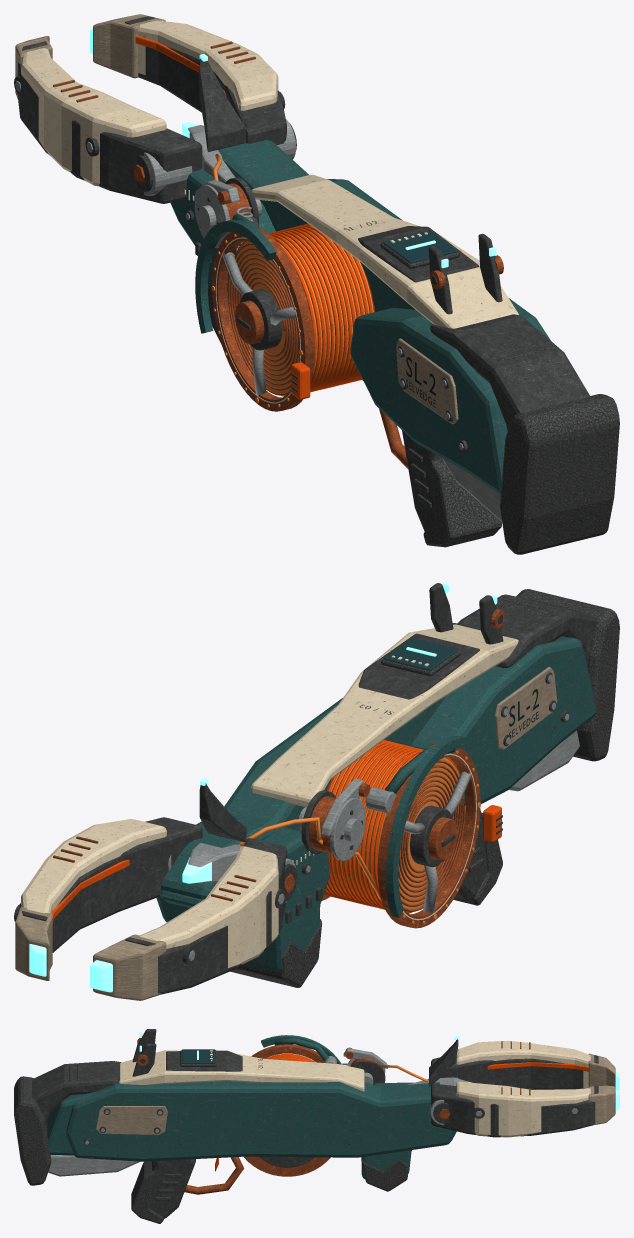
File: selvedge.gltf
3 renders of one model, top to bottom at view 1: azimuth 30°, elevation 25°; view 2: azimuth 150°, elevation 25°; view 3: azimuth 270°, elevation 25°, orthographic. The views are drawn at different scales.
Visible parts, largest first — view 1: body_Vulcanised heel, body_Deep tide powder coat, body_Graphite inserts, body_Ivory alumina, bobbin_Oxidised bronze, bobbin_Saffron enamel, leftTine_Ivory alumina, leftTine_Graphite inserts, bobbin_Enamelled amber filament, rightTine_Ivory alumina, rightTine_Graphite inserts, body_Edge milled alloy (+9 smaller); view 2: body_Deep tide powder coat, body_Graphite inserts, body_Ivory alumina, body_Vulcanised heel, bobbin_Oxidised bronze, leftTine_Ivory alumina, rightTine_Graphite inserts, rightTine_Ivory alumina, bobbin_Saffron enamel, leftTine_Graphite inserts, bobbin_Enamelled amber filament, latch_Deep tide powder coat (+16 smaller); view 3: body_Deep tide powder coat, body_Graphite inserts, body_Vulcanised heel, body_Ivory alumina, rightTine_Ivory alumina, rightTine_Graphite inserts, leftTine_Graphite inserts, leftTine_Ivory alumina, body_Edge milled alloy, body_Satin champagne alloy, bobbin_Oxidised bronze, body_Oxidised bronze (+7 smaller).
Boxes of the visible parts, box(x1,y1,x2,y2) form: body_Vulcanised heel: box(208, 243, 619, 554); body_Deep tide powder coat: box(170, 139, 550, 494); body_Graphite inserts: box(137, 58, 590, 531); body_Ivory alumina: box(251, 174, 518, 328); bobbin_Oxidised bronze: box(212, 228, 363, 411); bobbin_Saffron enamel: box(237, 223, 374, 396); leftTine_Ivory alumina: box(21, 48, 166, 186); leftTine_Graphite inserts: box(14, 41, 202, 203); bobbin_Enamelled amber filament: box(211, 228, 373, 407); rightTine_Ivory alumina: box(138, 20, 278, 110); rightTine_Graphite inserts: box(125, 16, 286, 144); body_Edge milled alloy: box(144, 119, 502, 522); body_Deep tide powder coat: box(156, 623, 596, 972); body_Graphite inserts: box(199, 583, 597, 929); body_Ivory alumina: box(251, 624, 518, 807); body_Vulcanised heel: box(230, 589, 619, 987); bobbin_Oxidised bronze: box(321, 744, 480, 928); leftTine_Ivory alumina: box(140, 846, 278, 967); rightTine_Graphite inserts: box(14, 817, 202, 952); rightTine_Ivory alumina: box(21, 819, 166, 913); bobbin_Saffron enamel: box(323, 740, 464, 913); leftTine_Graphite inserts: box(125, 838, 287, 994); bobbin_Enamelled amber filament: box(326, 747, 481, 924); latch_Deep tide powder coat: box(385, 736, 467, 917); body_Deep tide powder coat: box(47, 1081, 456, 1178); body_Graphite inserts: box(32, 1029, 458, 1218); body_Vulcanised heel: box(14, 1050, 408, 1223); body_Ivory alumina: box(119, 1050, 364, 1091); rightTine_Ivory alumina: box(456, 1081, 590, 1137); rightTine_Graphite inserts: box(431, 1084, 598, 1137); leftTine_Graphite inserts: box(431, 1055, 598, 1089); leftTine_Ivory alumina: box(456, 1040, 590, 1088); body_Edge milled alloy: box(48, 1048, 457, 1176); body_Satin champagne alloy: box(96, 1106, 167, 1135); bobbin_Oxidised bronze: box(243, 1044, 330, 1176); body_Oxidised bronze: box(137, 1038, 450, 1194).
Bounding box in the file's own units: 0.1945 × 0.278 × 0.8472.
Materials: 13 (8 with a texture image).
